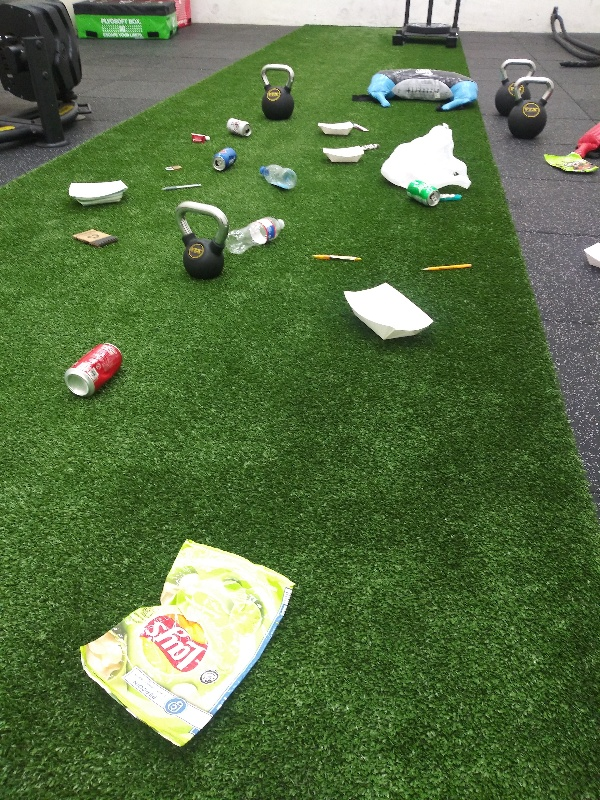bag: (74, 531, 300, 753), (543, 146, 600, 179)
bottle: (224, 215, 294, 256), (254, 161, 300, 195)
can: (62, 340, 124, 396), (402, 178, 443, 210), (209, 143, 238, 177), (224, 116, 251, 138)
plate: (338, 280, 437, 345), (63, 176, 130, 212), (319, 143, 367, 168), (581, 235, 600, 275), (312, 119, 353, 135)
